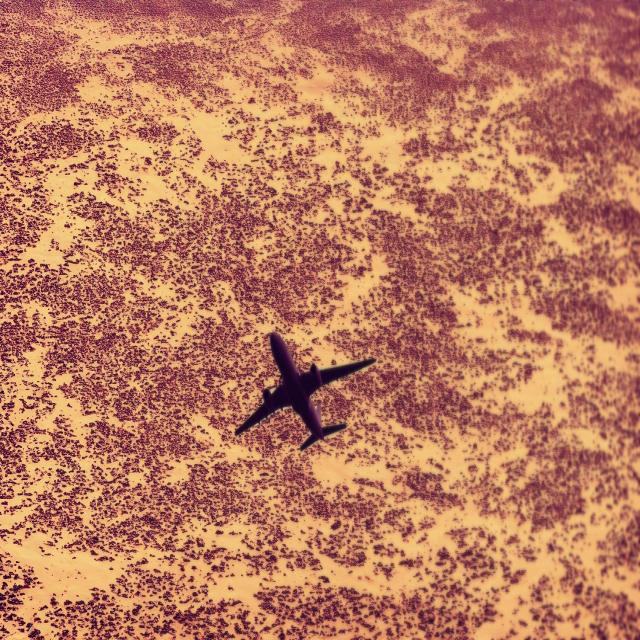airplane: (234, 331, 376, 452)
